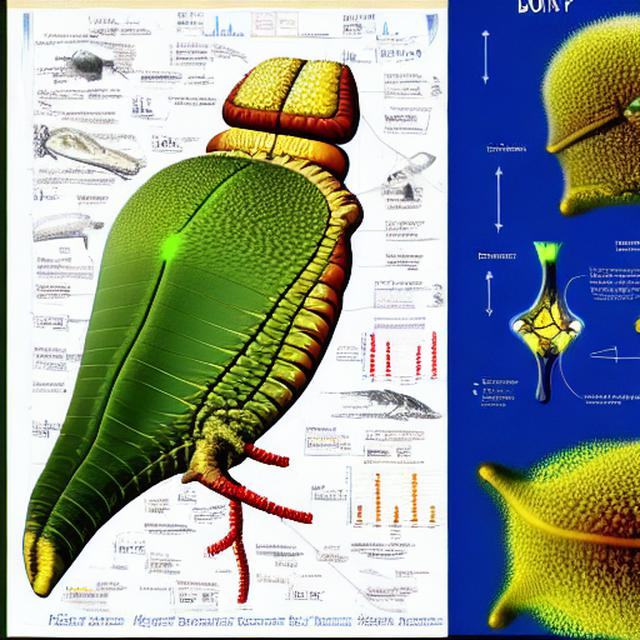Graph: (326, 459, 443, 535), (349, 325, 441, 387), (195, 8, 247, 42), (372, 39, 424, 68)
